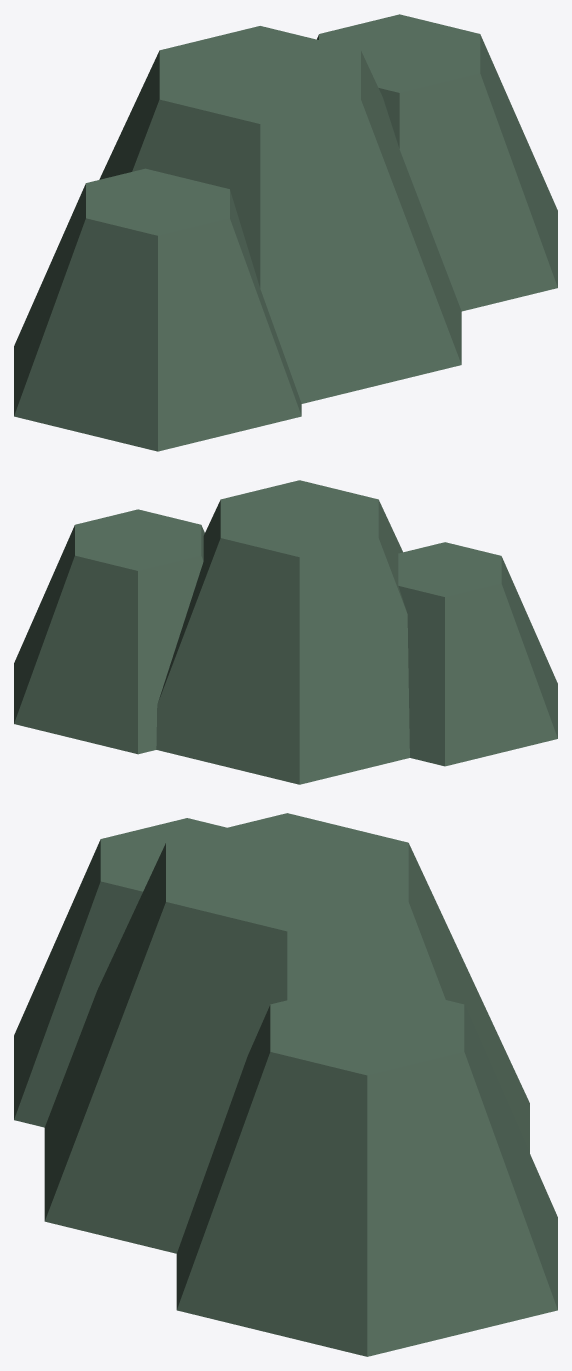
File: bush.glb
3 views of the same model, one above another, from view 1: azimuth 30°, elevation 25°; view 2: azimuth 150°, elevation 25°; view 3: azimuth 270°, elevation 25° (orthographic). The views are drawn at different scales.
Visible parts, largest first — view 1: bush; view 2: bush; view 3: bush.
Part boxes in pixels (bbox=[...]): bush: bbox=[14, 14, 557, 451]; bush: bbox=[14, 480, 557, 784]; bush: bbox=[14, 813, 557, 1356].
Bounding box in the file's own units: 2.15 × 0.8 × 1.36.
